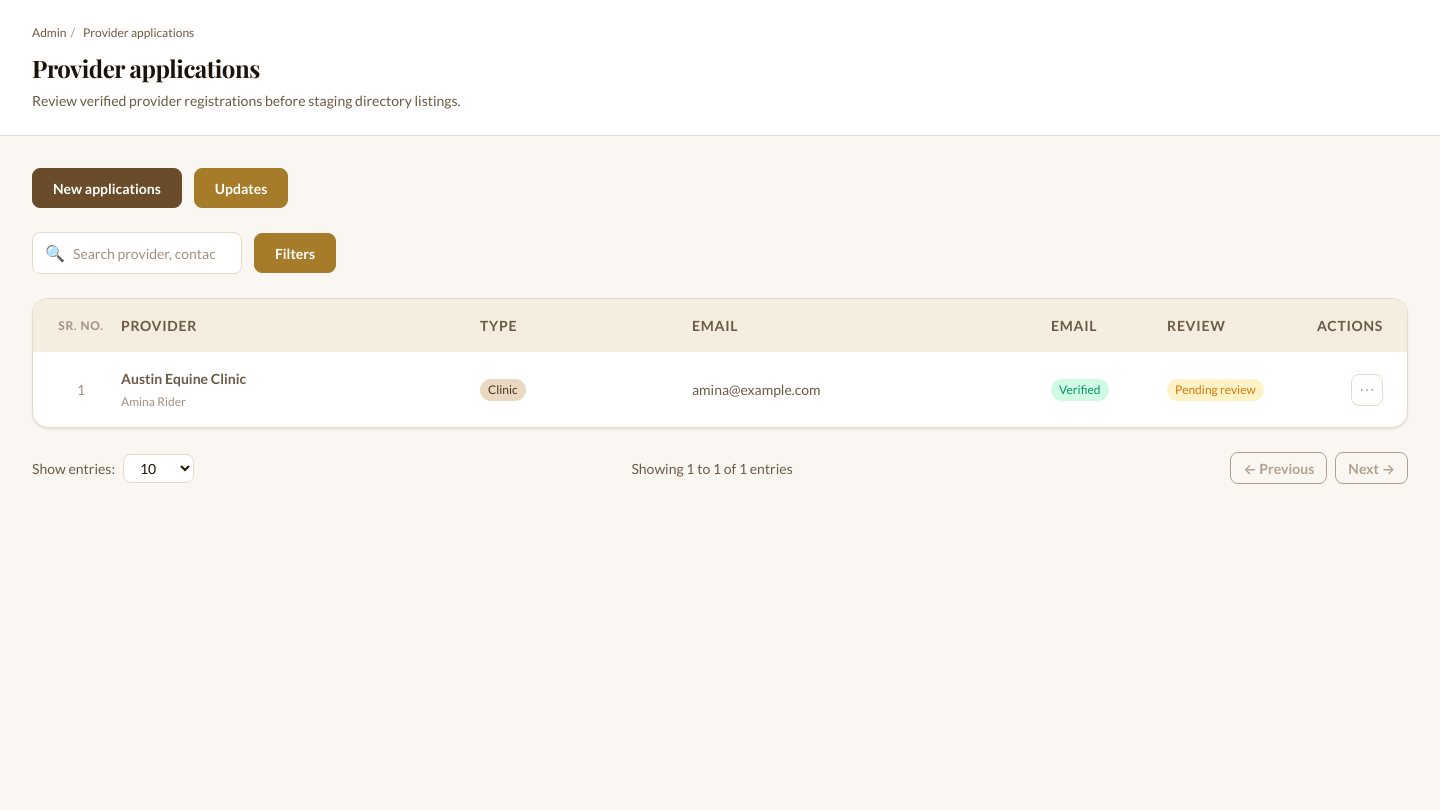
Test case: ProviderApplicationsPage › shows all application details without losing explicit false, zero, separate names, selections, or consent times
Click the button named "Actions for Austin Equine Clinic" at (1367,390), box [1351,374,1383,406]
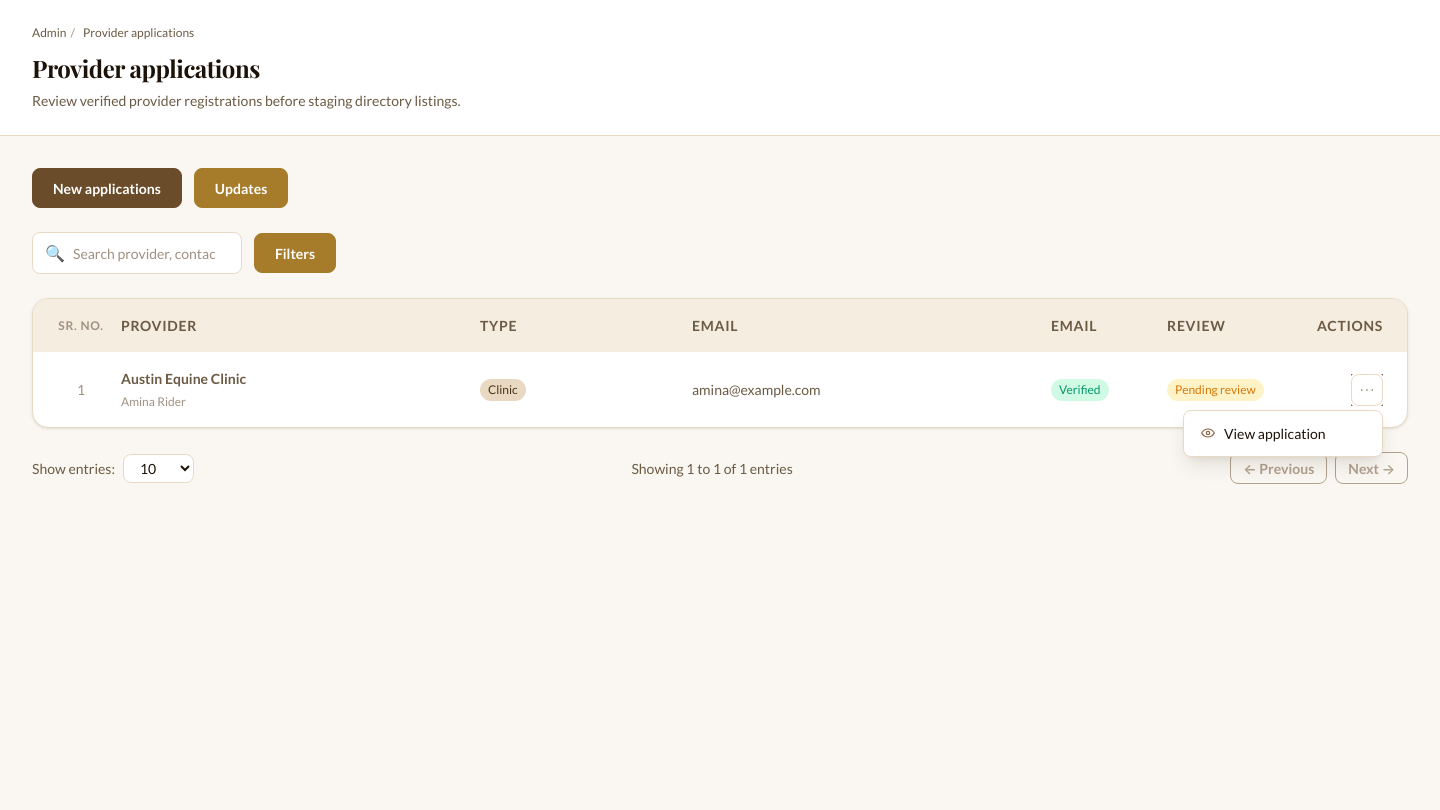
Click the menu item "View application" at (1283,433), box [1188,414,1378,452]
(page scrolled)
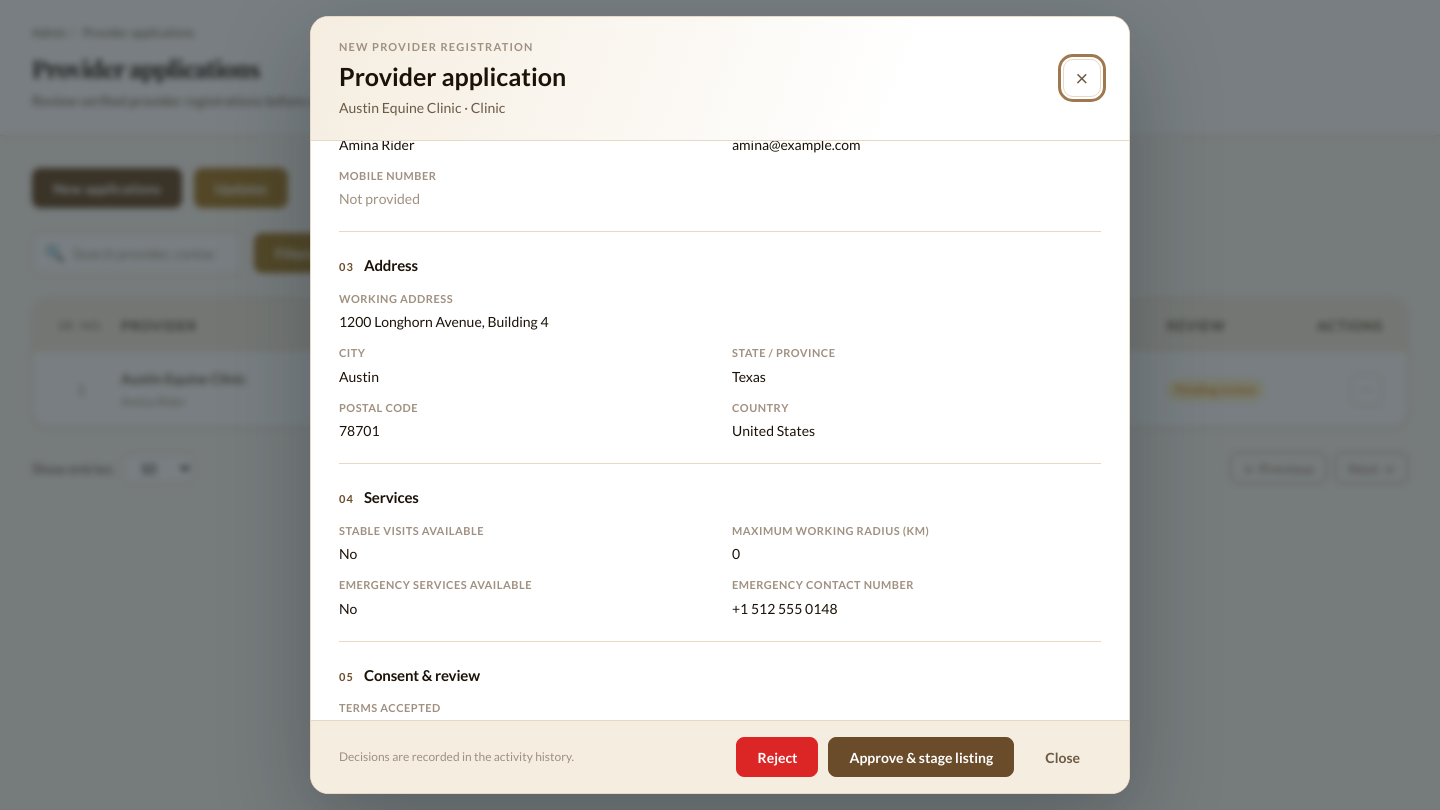
expect the text "0" is shown 2 times: met
expect the text "1200 Longhorn Avenue, Building 4" is shown: met, box [339,313,549,330]
expect the text "78701" is shown: met, box [339,422,380,439]
